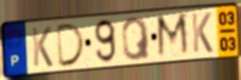9: (93, 18, 118, 66)
D: (56, 22, 88, 70)
K: (189, 11, 214, 55), (30, 25, 54, 69)
M: (155, 11, 192, 61)
Q: (120, 15, 152, 62)
